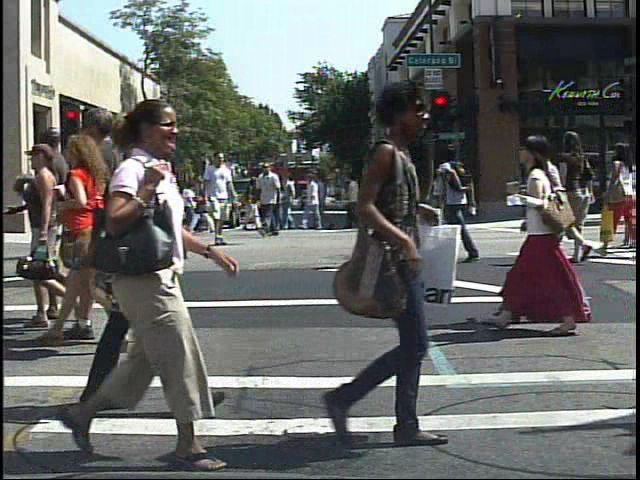person: (293, 77, 488, 459), (55, 84, 239, 475), (58, 124, 152, 353), (69, 99, 141, 352), (513, 125, 594, 348), (542, 130, 576, 344), (434, 139, 483, 270), (560, 129, 604, 265), (599, 134, 638, 260), (204, 150, 233, 249), (137, 160, 168, 245), (79, 163, 108, 248), (154, 158, 185, 237), (394, 162, 422, 235), (63, 181, 89, 244), (82, 183, 102, 226), (402, 133, 403, 276)
